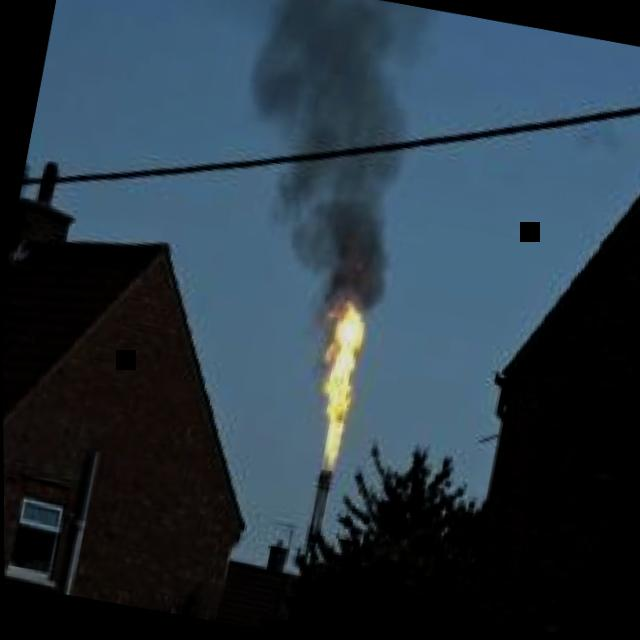fire: (320, 305, 362, 471)
smoke: (250, 0, 411, 224), (292, 201, 386, 340), (365, 0, 437, 56)
